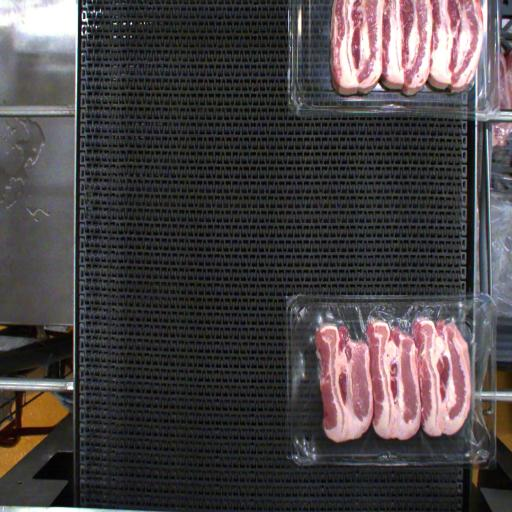unsealed: (291, 295, 490, 455)
